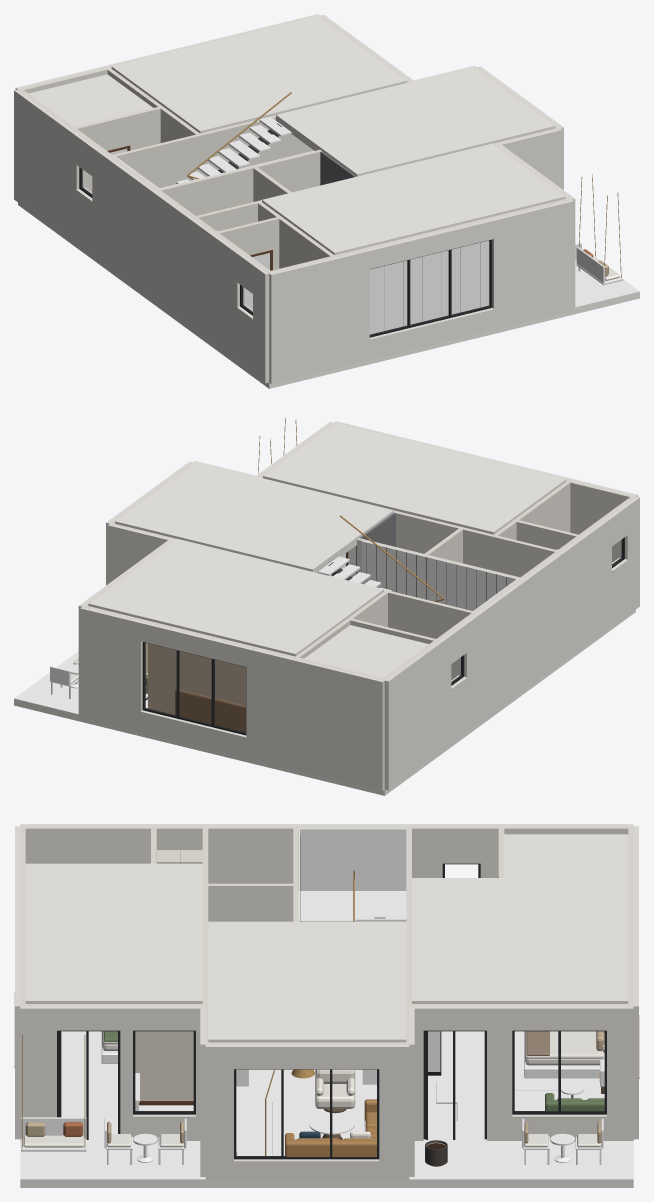
3 views of the same model, one above another, from view 1: azimuth 30°, elevation 25°; view 2: azimuth 150°, elevation 25°; view 3: azimuth 270°, elevation 25° (orthographic). The views are drawn at different scales.
Parts seen in each view (by area): view 1: bake_ff; view 2: bake_ff; view 3: bake_ff.
Part boxes in pixels (x1,y1,x2,y2): bake_ff: [14, 14, 639, 388]; bake_ff: [14, 417, 639, 795]; bake_ff: [14, 824, 639, 1187].
Size of the model in its own units: 11.25 by 4.62 by 13.29.
